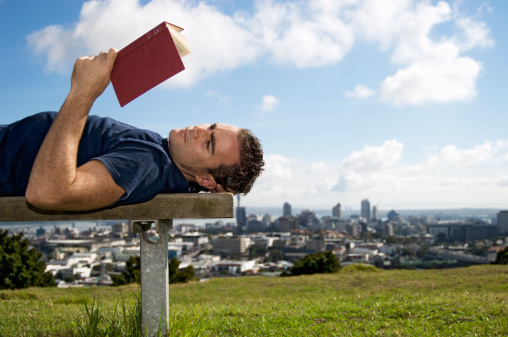deitado: (28, 45, 251, 311)
